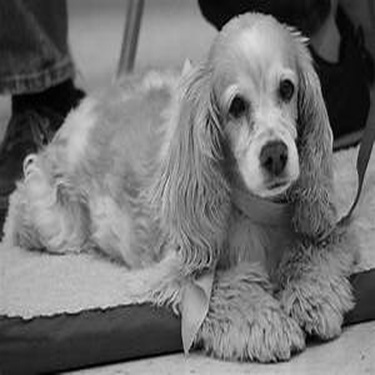dog: (1, 4, 364, 365)
